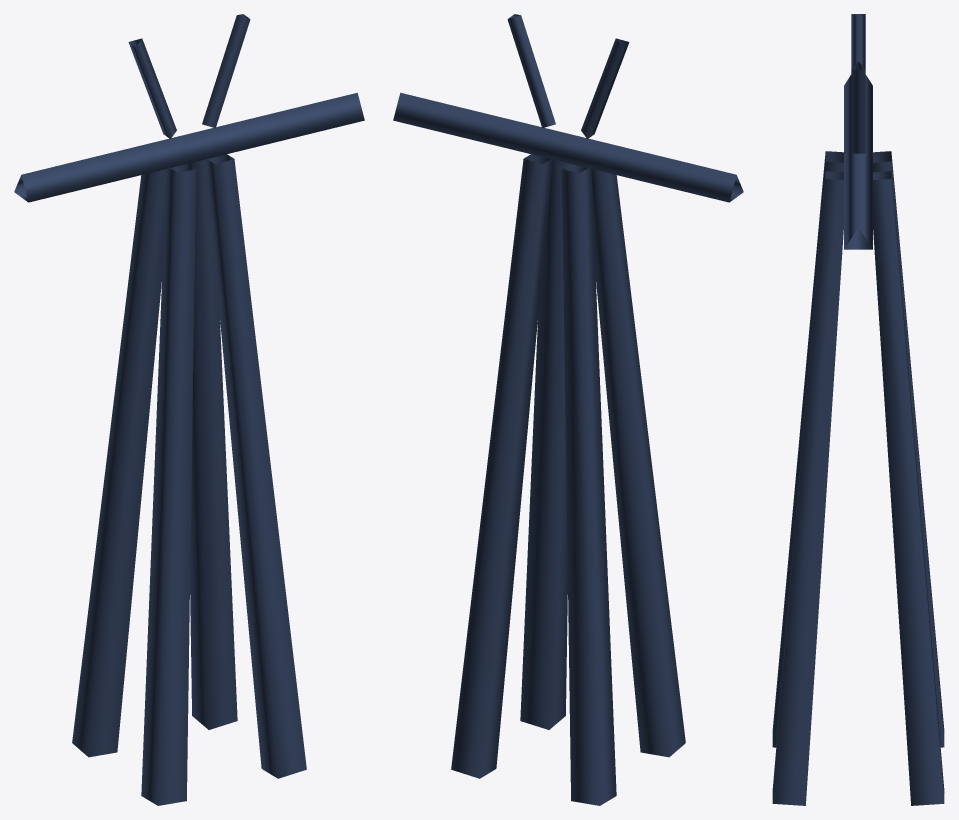
Rendered from torre-cc-lod.glb.
The picture shows the model from 3 angles, left to right: view 1: azimuth 30°, elevation 25°; view 2: azimuth 150°, elevation 25°; view 3: azimuth 270°, elevation 25°; orthographic projection.
Parts seen in each view (by area): view 1: torre-cc-lod; view 2: torre-cc-lod; view 3: torre-cc-lod.
Part boxes in pixels (x1,y1,x2,y2): torre-cc-lod: [14, 14, 364, 805]; torre-cc-lod: [393, 14, 743, 805]; torre-cc-lod: [772, 14, 944, 805].
Size of the model in its own units: 28 by 58.37 by 12.4.
